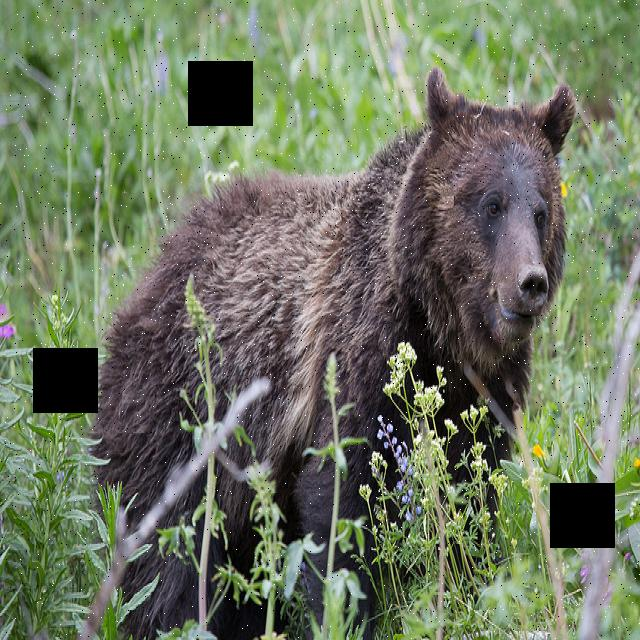Bear: (78, 65, 576, 637)
